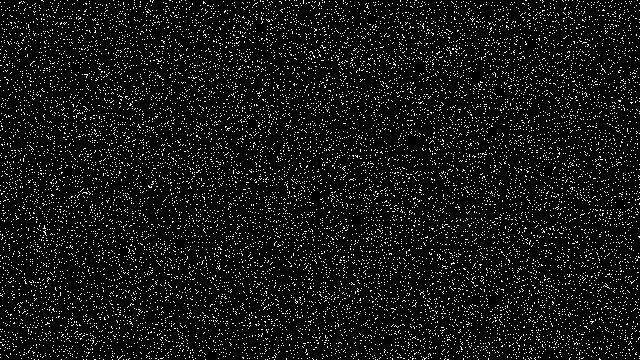pot: (588, 213, 624, 341), (0, 157, 36, 263)
